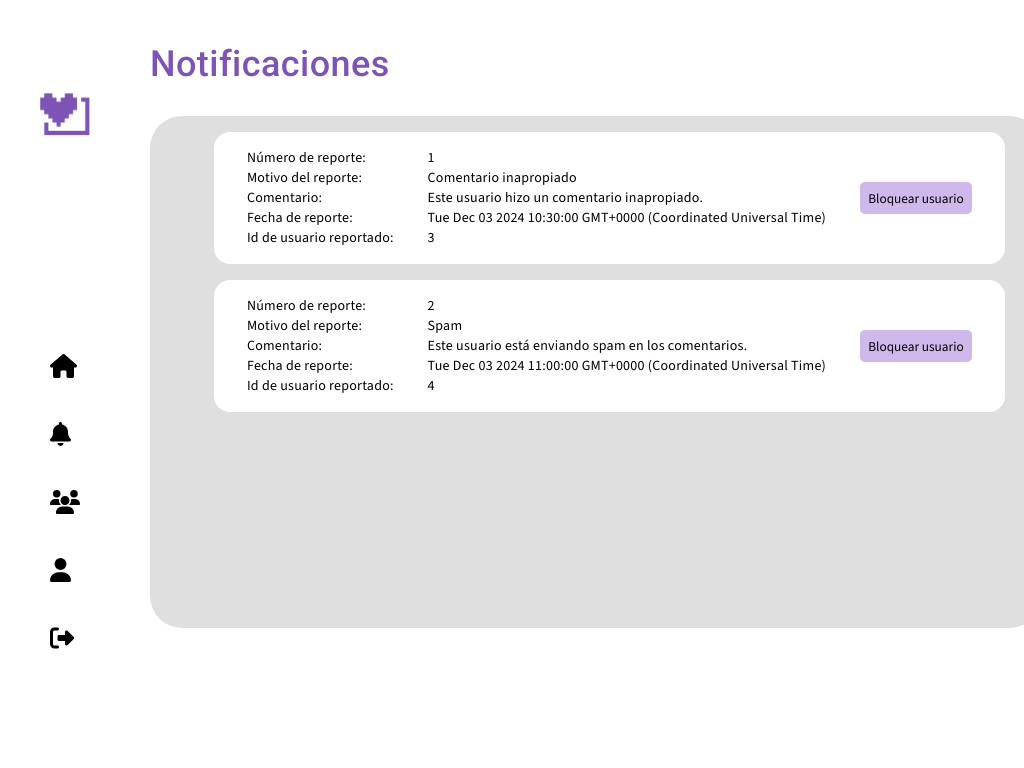
Test: Login module › Notificaciones module › debería bloquear al usuario cuando se hace clic en el botón
The image size is (1024, 768).
Click the 1st button with class "bloqueo" at point(916, 198), box [860,182,972,214]
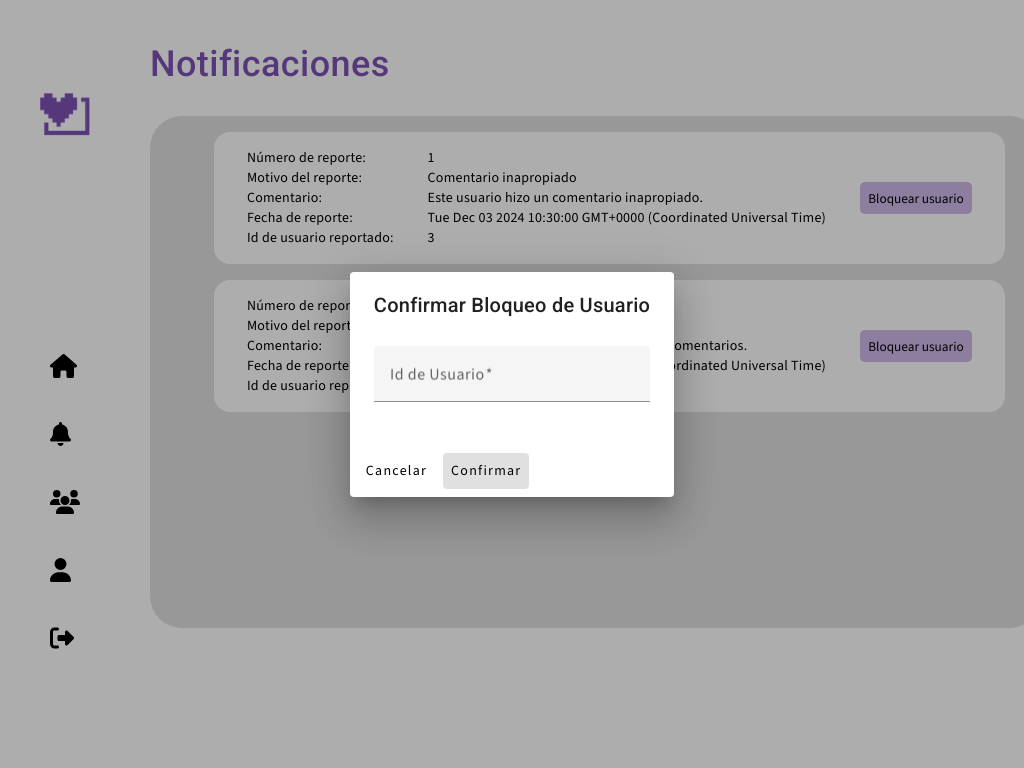
Check: the heading "Confirmar Bloqueo de Usuario" is shown, box [374,292,650,316]
